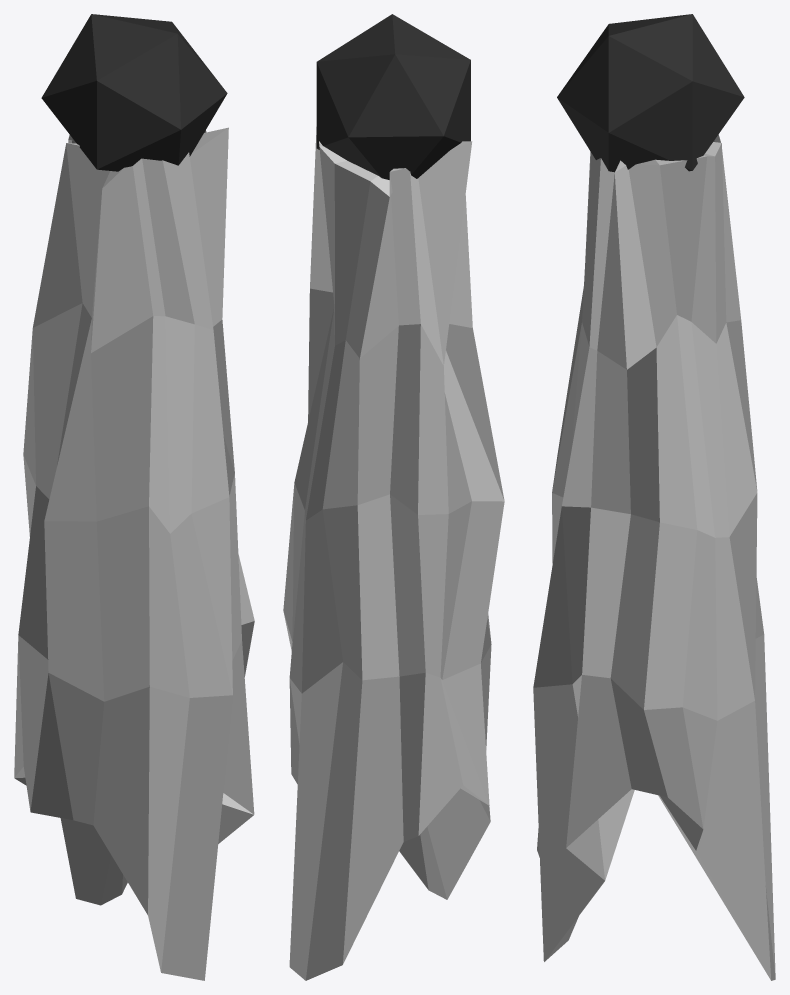
File: Char_GL_Hand_R_Upper.FBX
3 renders of one model, left to right at view 1: azimuth 30°, elevation 25°; view 2: azimuth 150°, elevation 25°; view 3: azimuth 270°, elevation 25°, orthographic. The views are drawn at different scales.
Visible parts, largest first — view 1: Cylinder002; view 2: Cylinder002; view 3: Cylinder002.
Boxes of the visible parts, x1=… form: Cylinder002: x1=14, y1=14, x2=254, y2=980; Cylinder002: x1=283, y1=14, x2=504, y2=980; Cylinder002: x1=533, y1=14, x2=775, y2=980.
Size of the model in its own units: 9.74 by 39.72 by 9.28.
